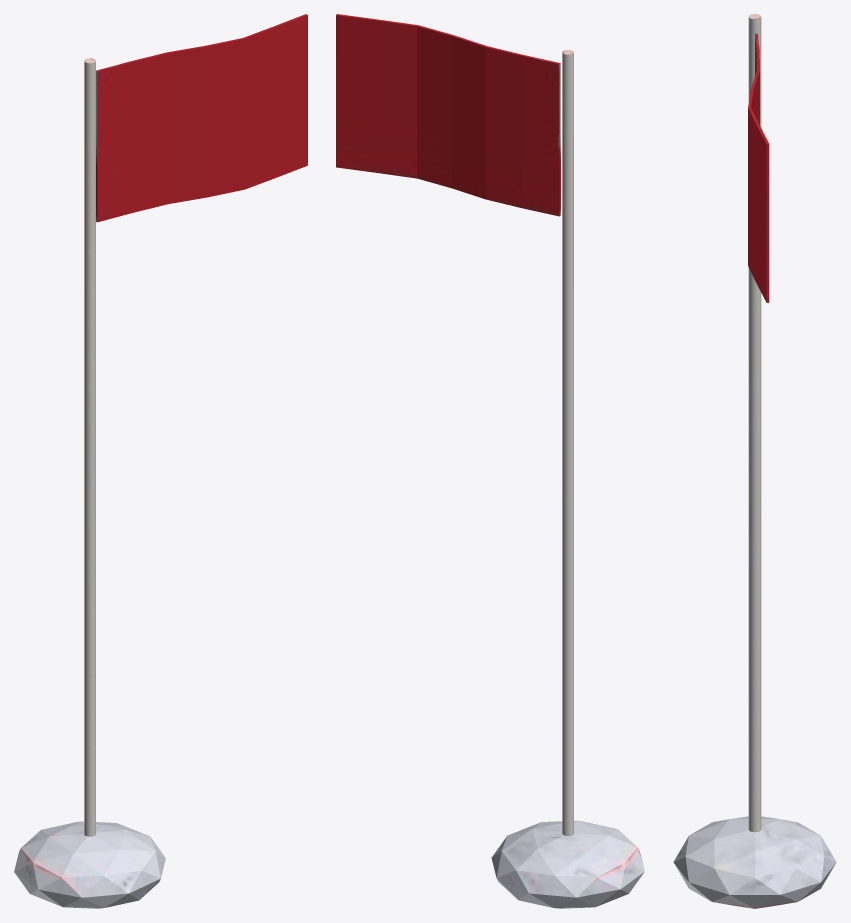
Rendered from flag_pole.glb.
The picture shows the model from 3 angles, left to right: view 1: azimuth 30°, elevation 25°; view 2: azimuth 150°, elevation 25°; view 3: azimuth 270°, elevation 25°; orthographic projection. The views are drawn at different scales.
Parts seen in each view (by area): view 1: flag_pole; view 2: flag_pole; view 3: flag_pole.
Boxes of the visible parts, x1,y1,x2,y2 form: flag_pole: [14, 14, 307, 908]; flag_pole: [336, 14, 644, 908]; flag_pole: [673, 14, 836, 908].
Bounding box in the file's own units: 1.2 × 3.33 × 0.56.
Materials: 1 (1 with a texture image).
